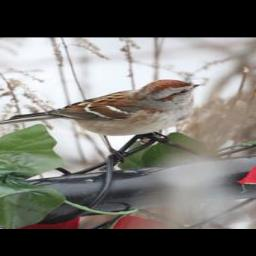Sparrow: (0, 79, 200, 162)
